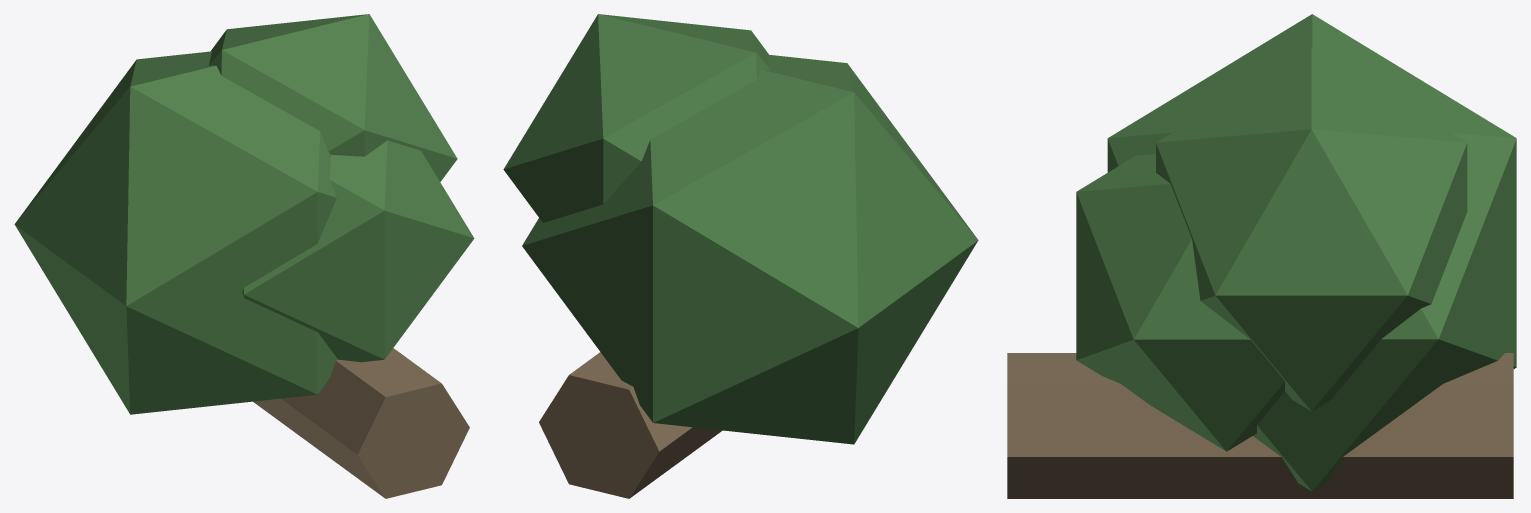
The model's file is tree_s8_08.glb.
The picture shows the model from 3 angles, left to right: view 1: azimuth 30°, elevation 25°; view 2: azimuth 150°, elevation 25°; view 3: azimuth 270°, elevation 25°; orthographic projection. The views are drawn at different scales.
Parts seen in each view (by area): view 1: geometry_0; view 2: geometry_0; view 3: geometry_0.
Part boxes in pixels (<box>): geometry_0: <box>14,14,474,498</box>; geometry_0: <box>503,14,978,498</box>; geometry_0: <box>1007,14,1516,498</box>.
Size of the model in its own units: 2.56 by 2.54 by 2.91.
